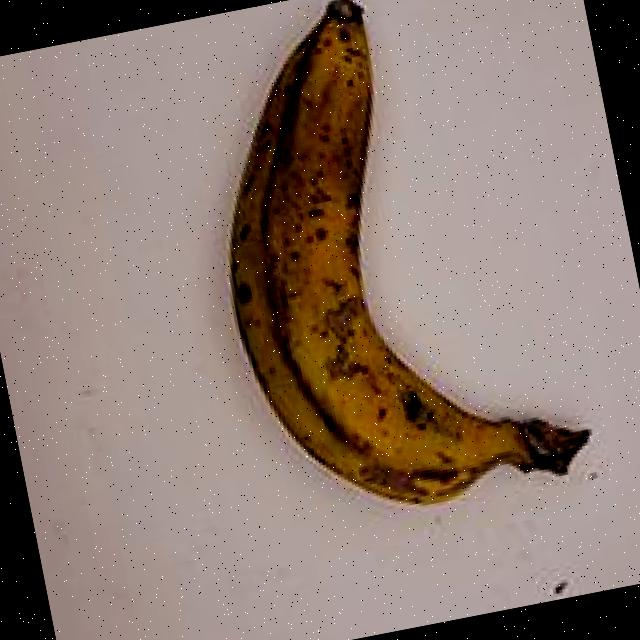Overripe: (143, 0, 618, 574)
